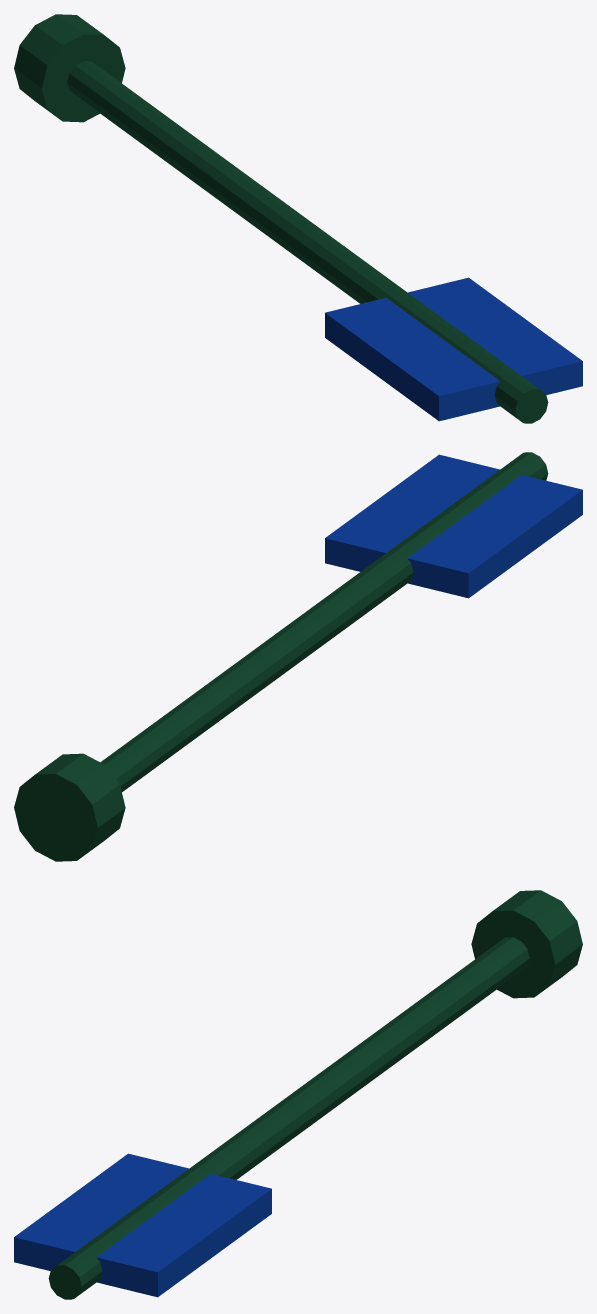
The model's file is bus_stop_flag.obj.
The picture shows the model from 3 angles, top to bottom: view 1: azimuth 30°, elevation 25°; view 2: azimuth 150°, elevation 25°; view 3: azimuth 330°, elevation 25°; orthographic projection.
Parts seen in each view (by area): view 1: bus_stop_flag; view 2: bus_stop_flag; view 3: bus_stop_flag.
Boxes of the visible parts, <box> form: bus_stop_flag: <box>14,14,582,423</box>; bus_stop_flag: <box>14,452,582,861</box>; bus_stop_flag: <box>14,890,582,1299</box>.
Bounding box in the file's own units: 0.48 × 0.28 × 2.75.
